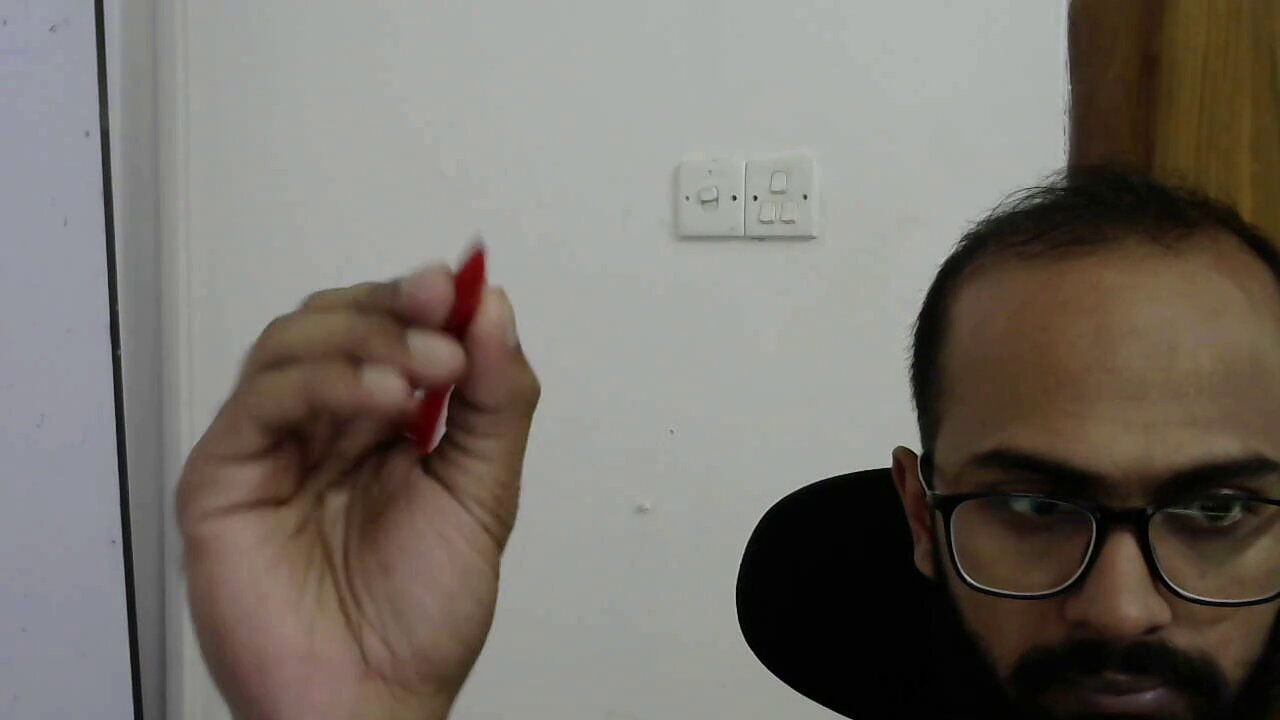pointer: (185, 236, 539, 578)
